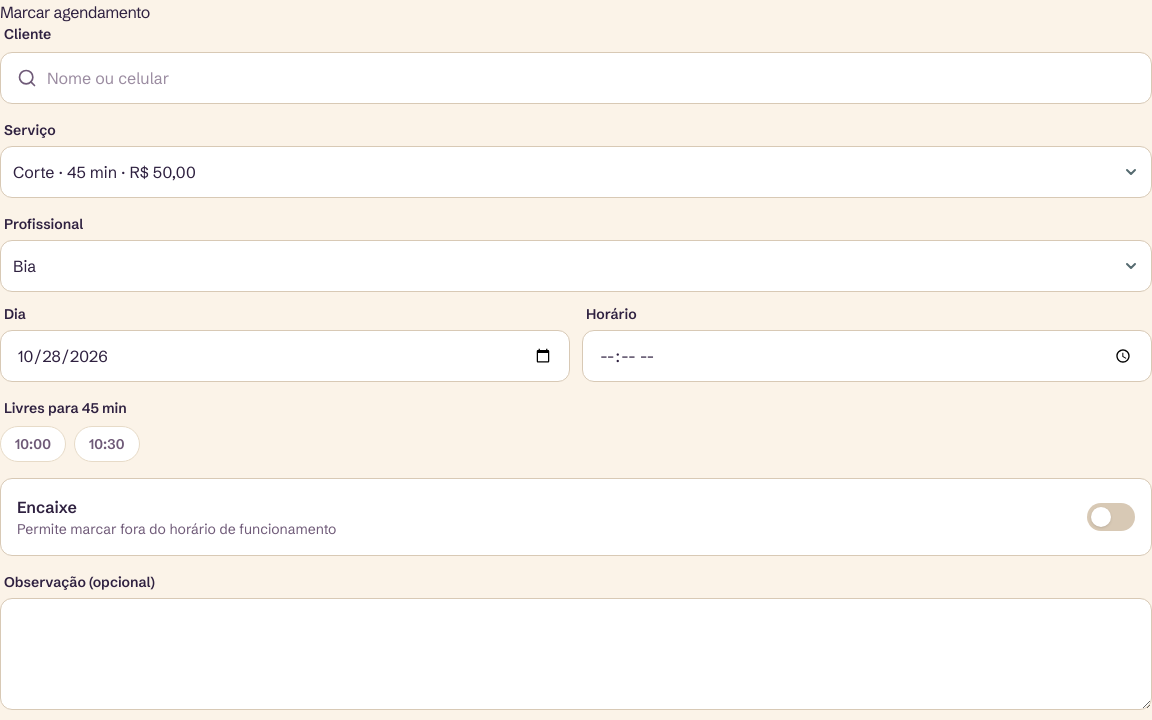
Test: NewAppointmentSheet › mostra os horários livres e escolher um preenche o campo
Expected: the text "Livres para 45 min" is shown, [4,399,127,417]
Step 1. Click the button "10:00" → (33, 444), box [0,426,66,462]
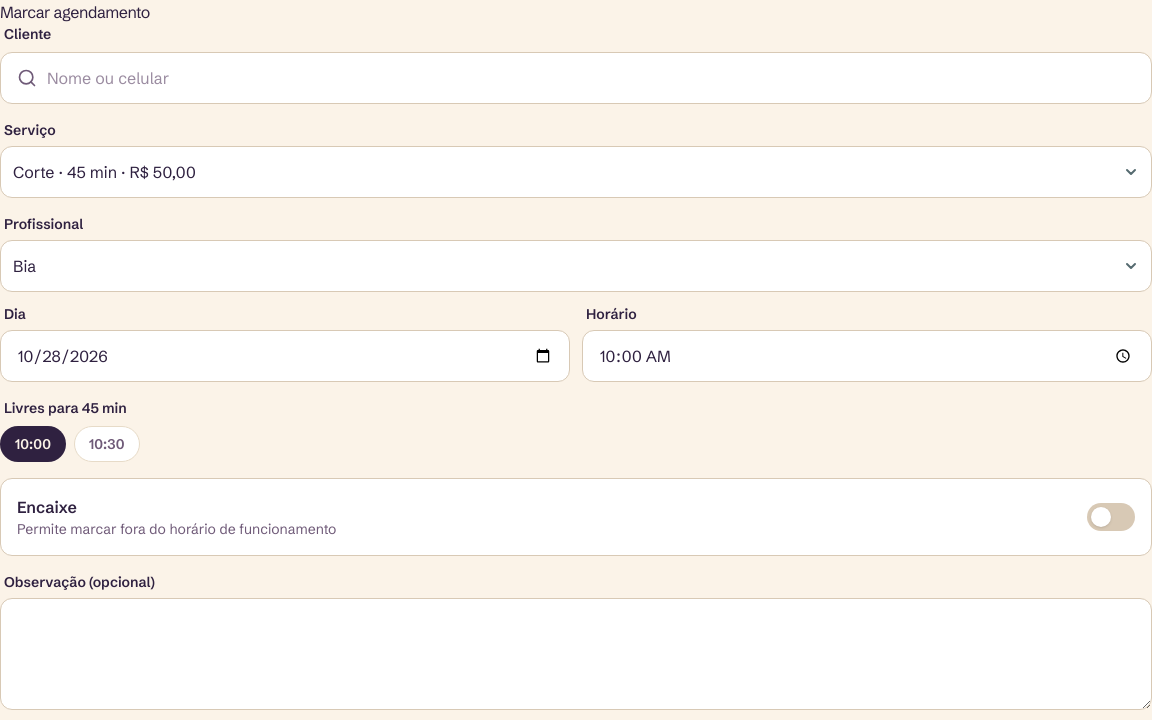
Expected: the time field labelled "Horário" holds "10:00", [599,331,1135,381]
